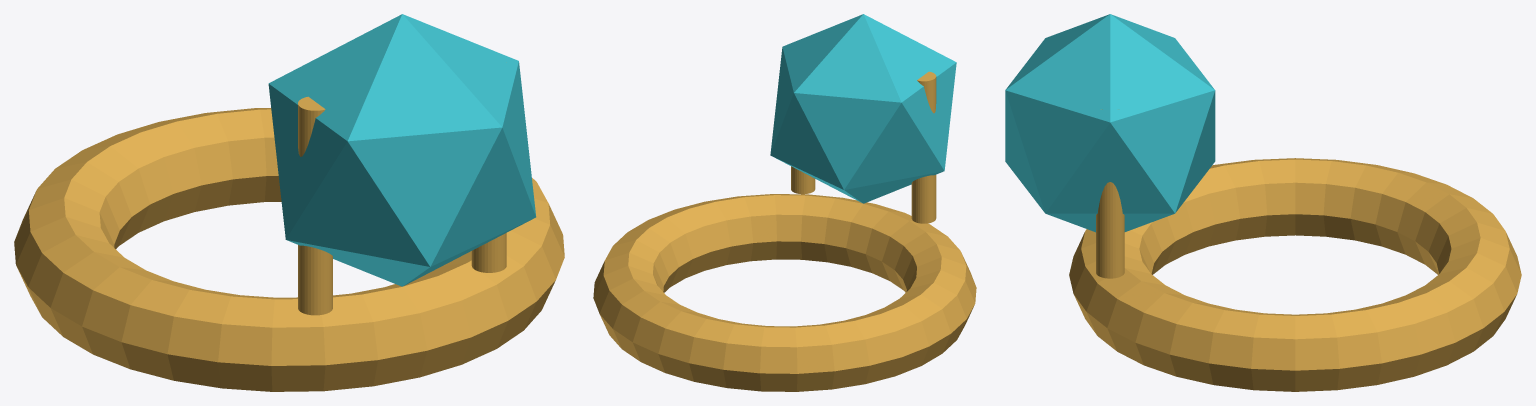
The model's file is Anillo.fbx.
3 views of the same model, side by side, from view 1: azimuth 30°, elevation 25°; view 2: azimuth 150°, elevation 25°; view 3: azimuth 270°, elevation 25° (orthographic). The views are drawn at different scales.
Visible parts, largest first — view 1: Aro, Piedra_tallada, Garra, Garra.001; view 2: Aro, Piedra_tallada, Garra, Garra.001; view 3: Aro, Piedra_tallada, Garra.001.
Part boxes in pixels (left/top/right/bottom): Aro: left=14, top=108, right=564, bottom=391; Piedra_tallada: left=268, top=14, right=536, bottom=286; Garra: left=298, top=96, right=332, bottom=315; Garra.001: left=471, top=233, right=506, bottom=272; Aro: left=593, top=194, right=976, bottom=391; Piedra_tallada: left=770, top=14, right=956, bottom=203; Garra: left=911, top=71, right=936, bottom=223; Garra.001: left=791, top=166, right=815, bottom=194; Aro: left=1069, top=158, right=1521, bottom=391; Piedra_tallada: left=1005, top=14, right=1215, bottom=232; Garra.001: left=1096, top=109, right=1124, bottom=278.
Bounding box in the file's own units: 2.2 × 1.6 × 2.51.
